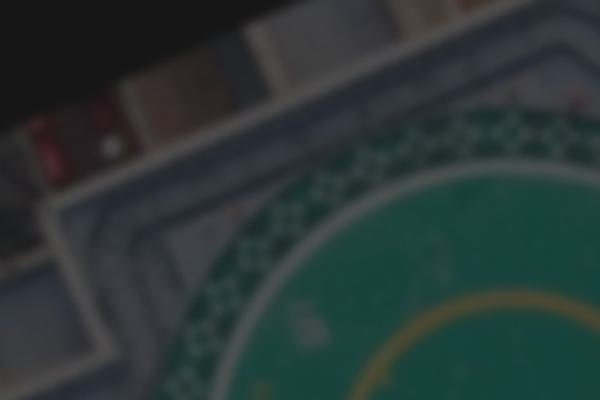Apron: (330, 280, 600, 400)
